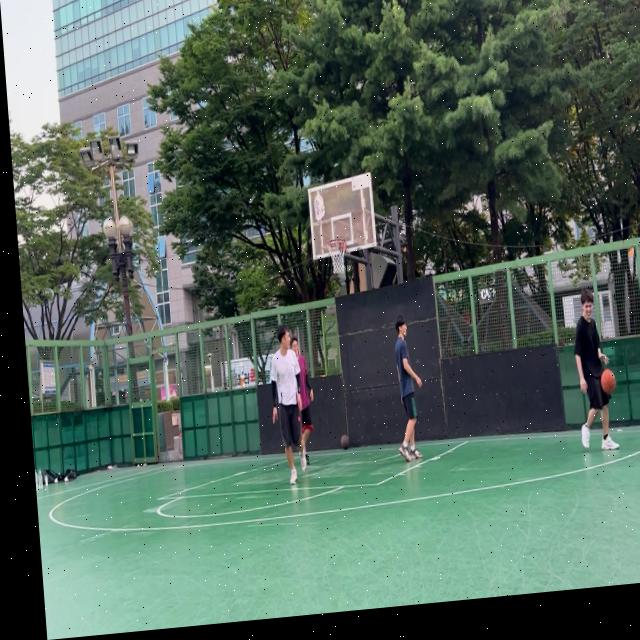basketball: (600, 367, 617, 394), (340, 434, 351, 451)
hoop: (326, 237, 348, 276)
